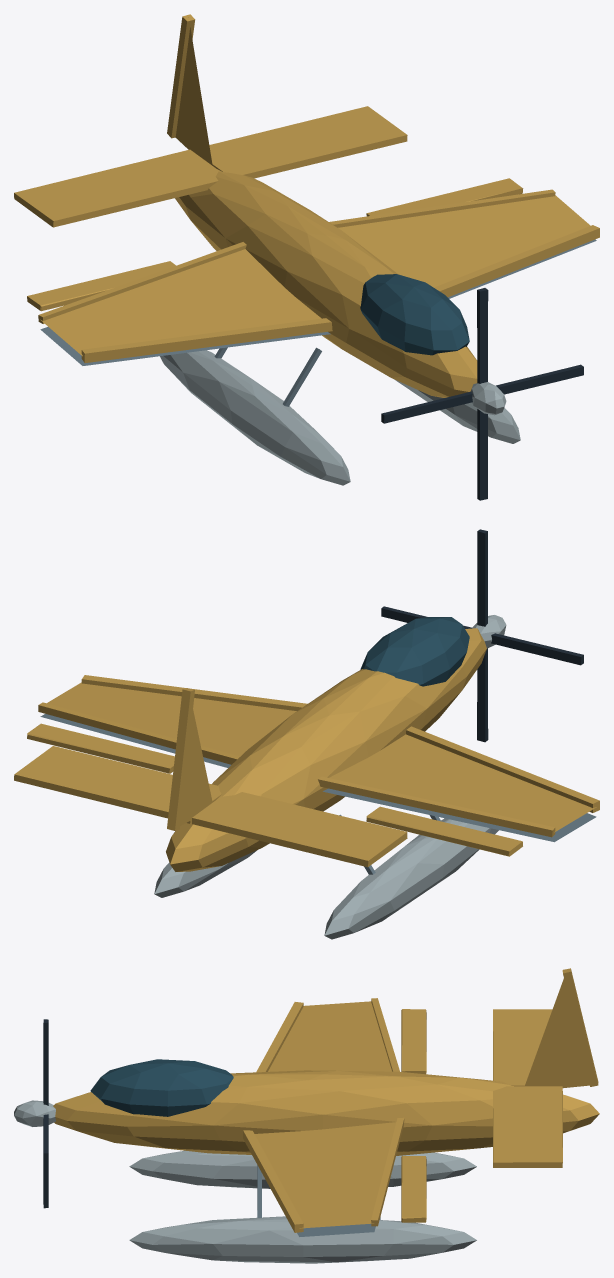
File: aircraft-seaplane.lod1.glb
The picture shows the model from 3 angles, top to bottom: view 1: azimuth 30°, elevation 25°; view 2: azimuth 150°, elevation 25°; view 3: azimuth 270°, elevation 25°; orthographic projection. The views are drawn at different scales.
Visible parts, largest first — view 1: aircraft-seaplane__body, aircraft-seaplane__propeller_0, aircraft-seaplane__aileron_-1, aircraft-seaplane__aileron_1; view 2: aircraft-seaplane__body, aircraft-seaplane__propeller_0, aircraft-seaplane__aileron_-1, aircraft-seaplane__aileron_1; view 3: aircraft-seaplane__body, aircraft-seaplane__propeller_0, aircraft-seaplane__aileron_1, aircraft-seaplane__aileron_-1.
Boxes of the visible parts, x1,y1,x2,y2 form: aircraft-seaplane__body: (14, 14, 599, 485); aircraft-seaplane__propeller_0: (381, 288, 583, 500); aircraft-seaplane__aileron_-1: (27, 261, 175, 311); aircraft-seaplane__aileron_1: (366, 178, 523, 216); aircraft-seaplane__body: (14, 617, 599, 939); aircraft-seaplane__propeller_0: (381, 529, 583, 742); aircraft-seaplane__aileron_-1: (366, 806, 522, 856); aircraft-seaplane__aileron_1: (27, 723, 174, 773); aircraft-seaplane__body: (53, 968, 599, 1263); aircraft-seaplane__propeller_0: (14, 1019, 55, 1208); aircraft-seaplane__aileron_1: (401, 1156, 426, 1222); aircraft-seaplane__aileron_-1: (401, 1009, 426, 1074).
Size of the model in its own units: 6.66 by 3.56 by 7.41.
